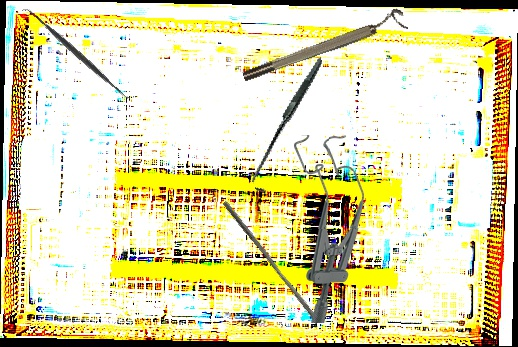Fixation Ring: (238, 6, 409, 85)
Hook Surgical: (219, 57, 359, 195)
Pusher: (217, 200, 325, 325)
Spatula Surgical: (19, 1, 134, 106)
Speculum: (293, 133, 367, 324)
